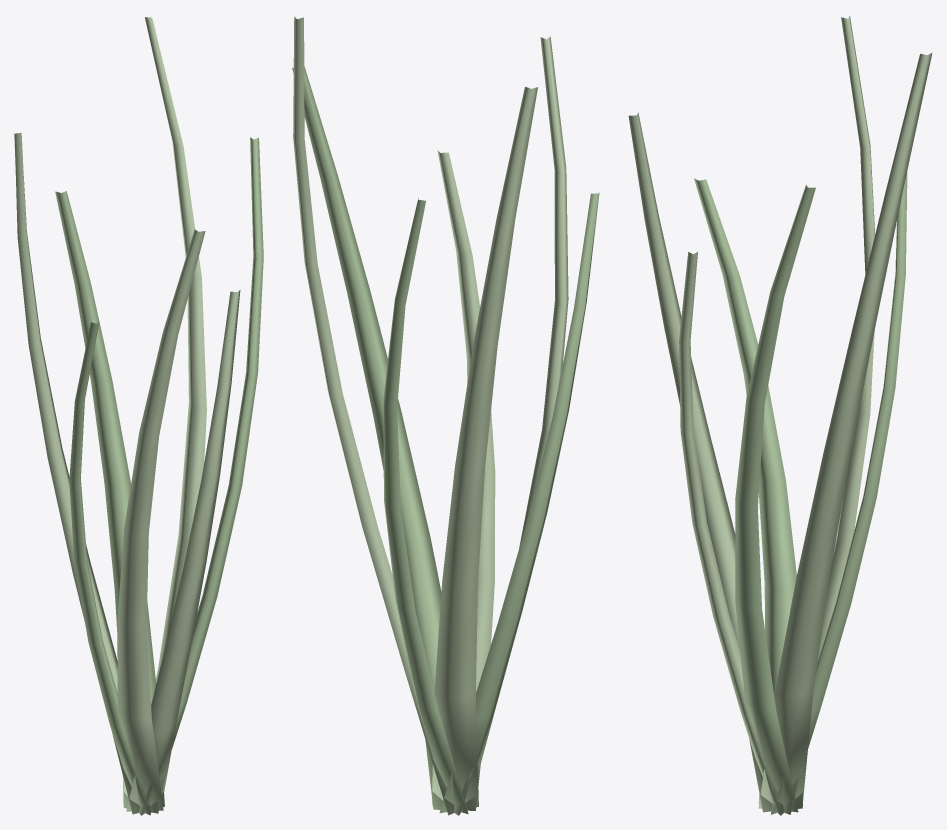
Rendered from chive_l.glb.
3 views of the same model, side by side, from view 1: azimuth 30°, elevation 25°; view 2: azimuth 150°, elevation 25°; view 3: azimuth 270°, elevation 25° (orthographic). The views are drawn at different scales.
Parts seen in each view (by area): view 1: blade6, blade0, blade2, blade3, blade1, blade4, blade5; view 2: blade4, blade1, blade5, blade3, blade2, blade0, blade6; view 3: blade2, blade1, blade5, blade6, blade3, blade0, blade4.
Boxes of the visible parts, x1,y1,x2,y2 form: blade6: [117, 229, 205, 810]; blade0: [126, 290, 240, 811]; blade2: [145, 17, 206, 813]; blade3: [55, 191, 164, 808]; blade1: [139, 137, 263, 815]; blade4: [14, 132, 140, 814]; blade5: [69, 321, 151, 815]; blade4: [432, 86, 537, 807]; blade1: [292, 66, 442, 809]; blade5: [439, 192, 599, 813]; blade3: [383, 197, 468, 814]; blade2: [293, 16, 454, 815]; blade0: [437, 150, 495, 810]; blade6: [454, 36, 568, 815]; blade2: [758, 53, 932, 808]; blade1: [735, 185, 815, 812]; blade5: [694, 178, 802, 808]; blade6: [628, 112, 772, 812]; blade3: [771, 172, 907, 814]; blade0: [679, 252, 783, 815]; blade4: [783, 16, 875, 814].
Size of the model in its own units: 0.0664 by 0.2014 by 0.0702.
